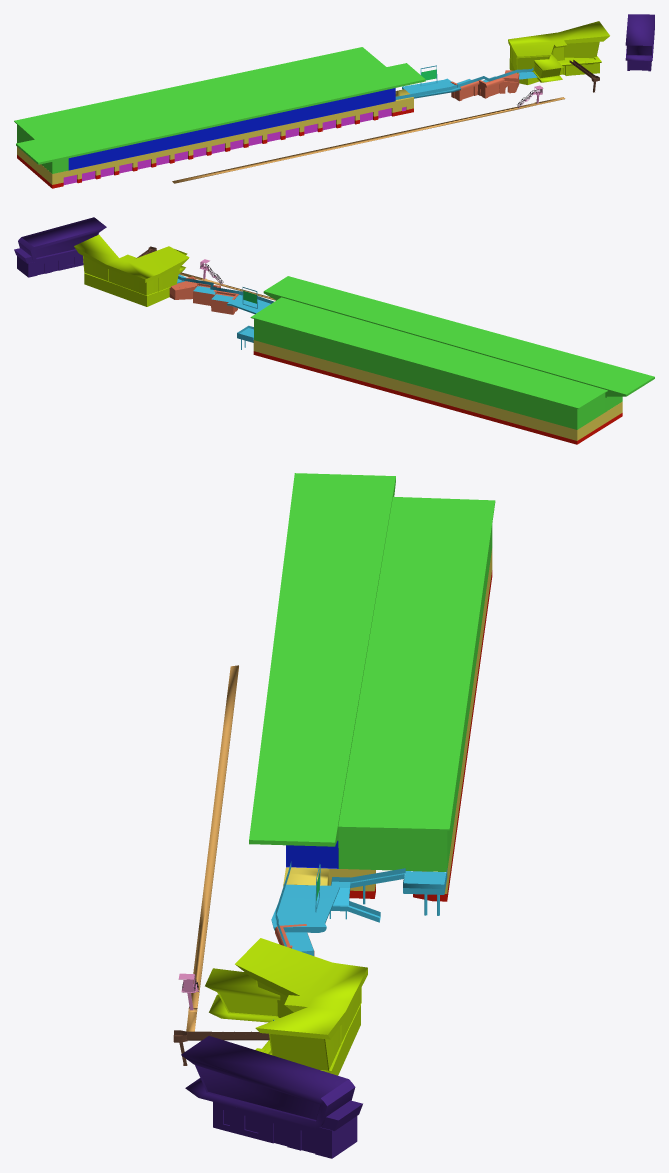
Rendered from building8_final.fbx.
3 renders of one model, top to bottom at view 1: azimuth 30°, elevation 25°; view 2: azimuth 150°, elevation 25°; view 3: azimuth 270°, elevation 25°, orthographic. The views are drawn at different scales.
Visible parts, largest first — view 1: building8_part3_4, building8_part3_5, building8_part2, building8_part3_1, building8_part3_2, building8_part1, sand, building8_part5, building8_part4, building8_part3_3; view 2: building8_part3_4, building8_part2, building8_part3_1, building8_part1, building8_part3_3, building8_part5, building8_part4; view 3: building8_part3_4, building8_part2, building8_part1, building8_part5, sand, building8_part3_1, building8_part3_5, railing1.
Part boxes in pixels (<box>): building8_part3_4: <box>14,47,425,173</box>; building8_part3_5: <box>68,88,395,170</box>; building8_part2: <box>508,21,609,84</box>; building8_part3_1: <box>17,89,413,184</box>; building8_part3_2: <box>63,107,406,184</box>; building8_part1: <box>625,14,654,71</box>; sand: <box>172,97,565,183</box>; building8_part5: <box>395,67,537,99</box>; building8_part4: <box>450,70,522,101</box>; building8_part3_3: <box>17,108,413,188</box>; building8_part3_4: <box>250,276,654,429</box>; building8_part2: <box>74,234,189,306</box>; building8_part3_1: <box>253,340,622,440</box>; building8_part1: <box>14,217,106,277</box>; building8_part3_3: <box>253,351,622,444</box>; building8_part5: <box>177,274,274,349</box>; building8_part4: <box>169,276,238,314</box>; building8_part3_4: <box>249,473,495,871</box>; building8_part2: <box>205,938,367,1075</box>; building8_part1: <box>181,1036,362,1158</box>; building8_part5: <box>271,861,447,1020</box>; sand: <box>186,665,238,1031</box>; building8_part3_1: <box>283,548,492,893</box>; building8_part3_5: <box>286,840,338,868</box>; railing1: <box>173,1030,269,1065</box>.
Size of the model in its own units: 29128 by 1718 by 6483.
